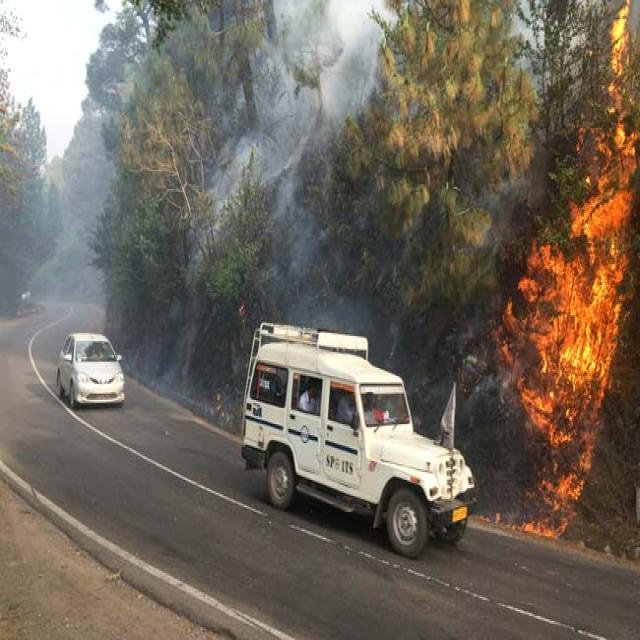Fire: (497, 0, 639, 532)
Smoke: (217, 0, 385, 202)
